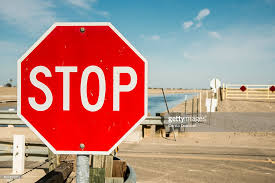Stop: (12, 10, 157, 157)
